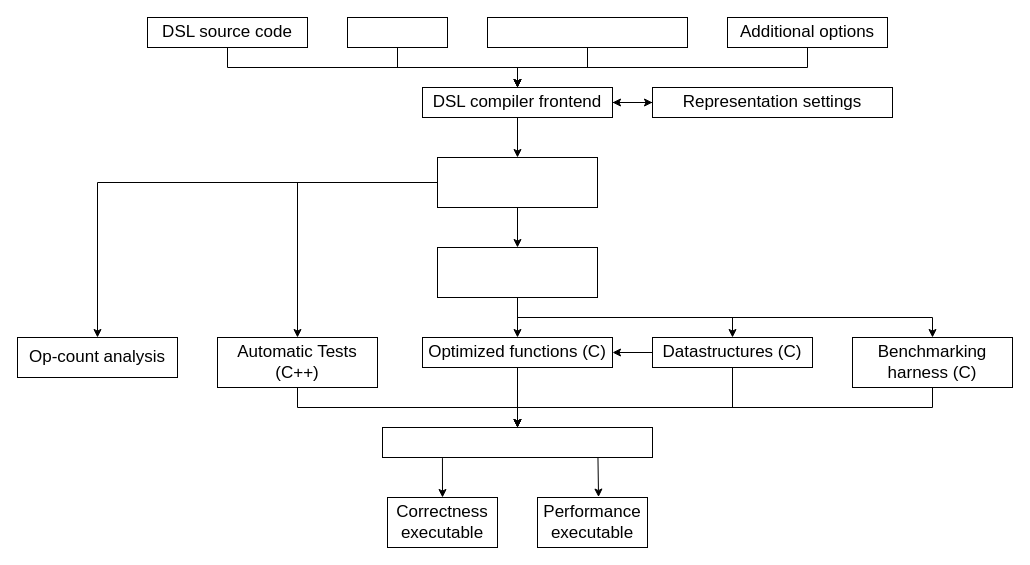
The diagram is 1030 pixels wide and 565 high, and some of its shapes have lost their labels. The centre of each missing label's shape, as x and y in pixels:
C/C++ compiler and build system: [517,442]
DSL compiler code generation: [517,272]
Intermediate representation: [517,182]
Prime field: [397,32]
Target CPU description: [587,32]
